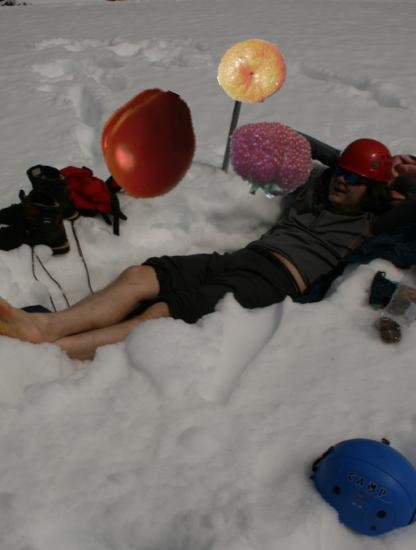Mandarine: (217, 37, 288, 108)
Strawberry: (224, 115, 314, 205)
Tomato: (93, 87, 205, 199)
